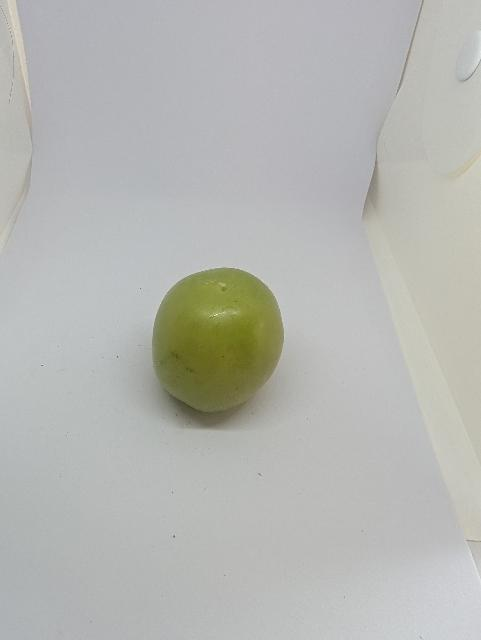green: (133, 253, 295, 431)
